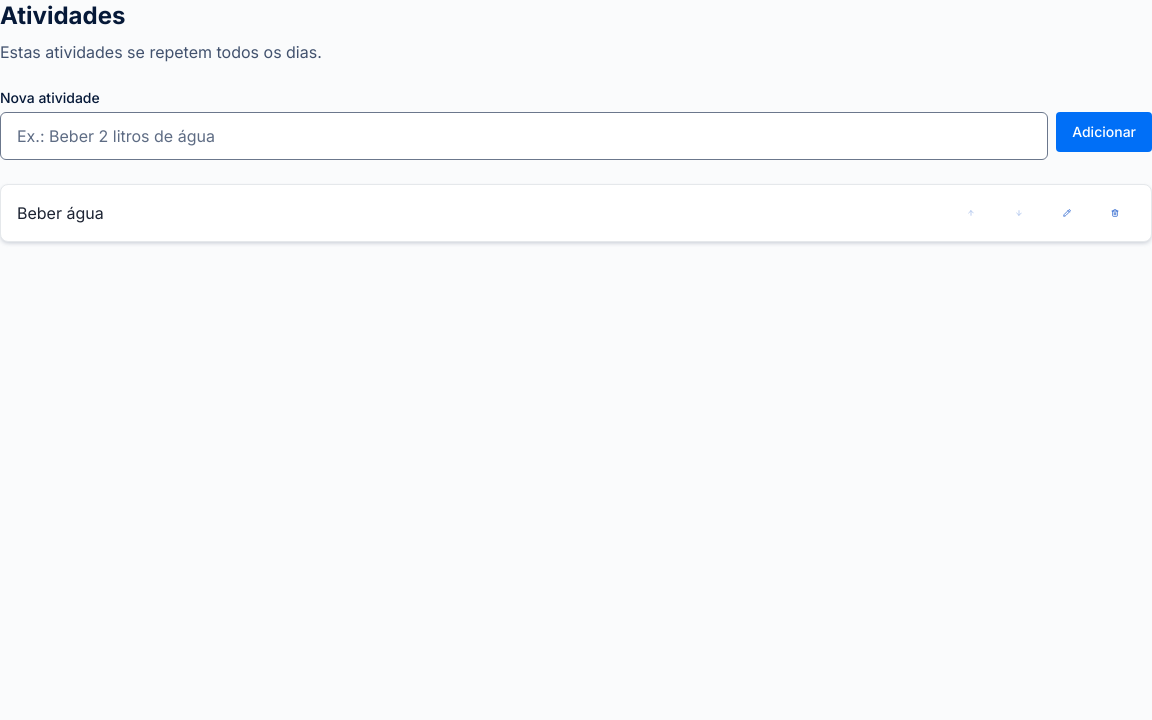
Activities › deve manter a atividade quando a pessoa cancela a remoção
Click the button named "Remover \"Beber água\"": (1115, 213) [1095,193,1135,233]
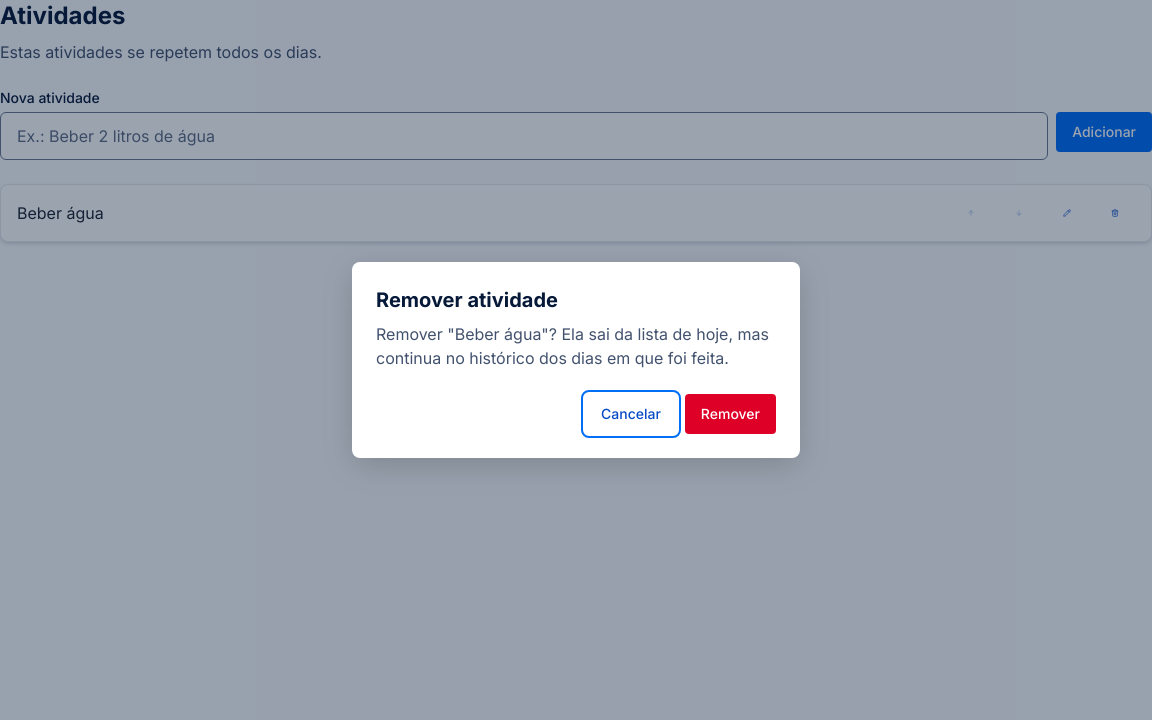
Click the button "Cancelar": (631, 414) [585,394,677,434]
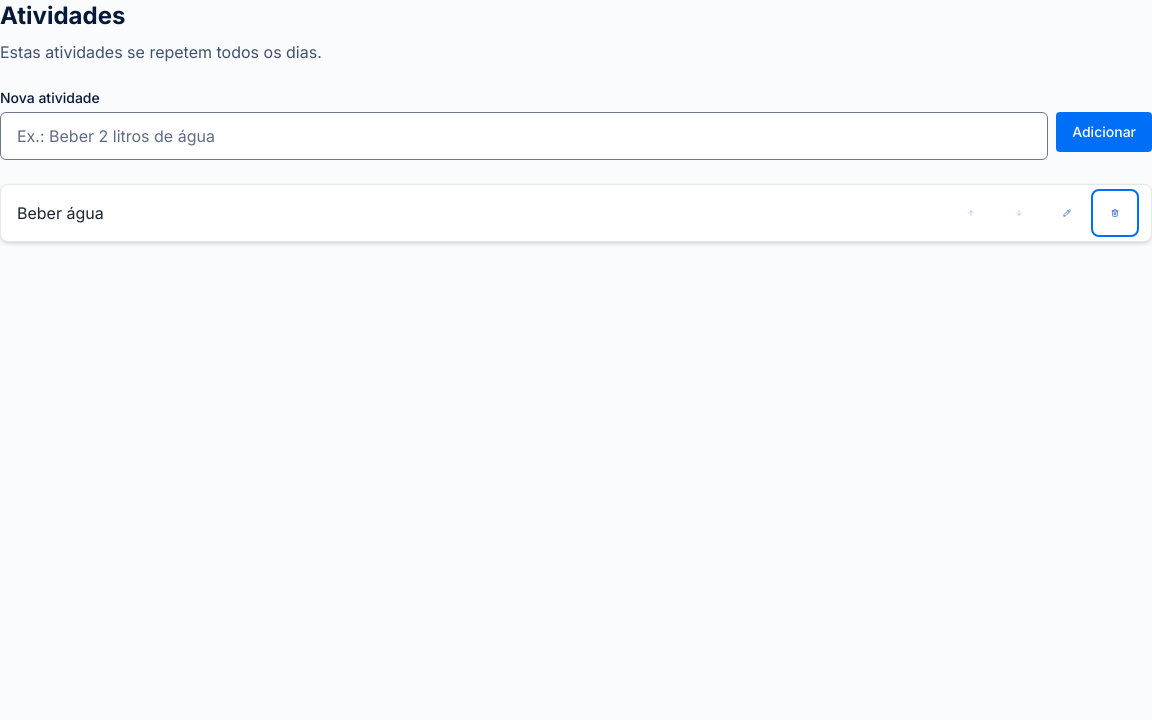
Check: the text "Beber água" is shown, box [17,203,104,223]
Check: the dialog is gone
